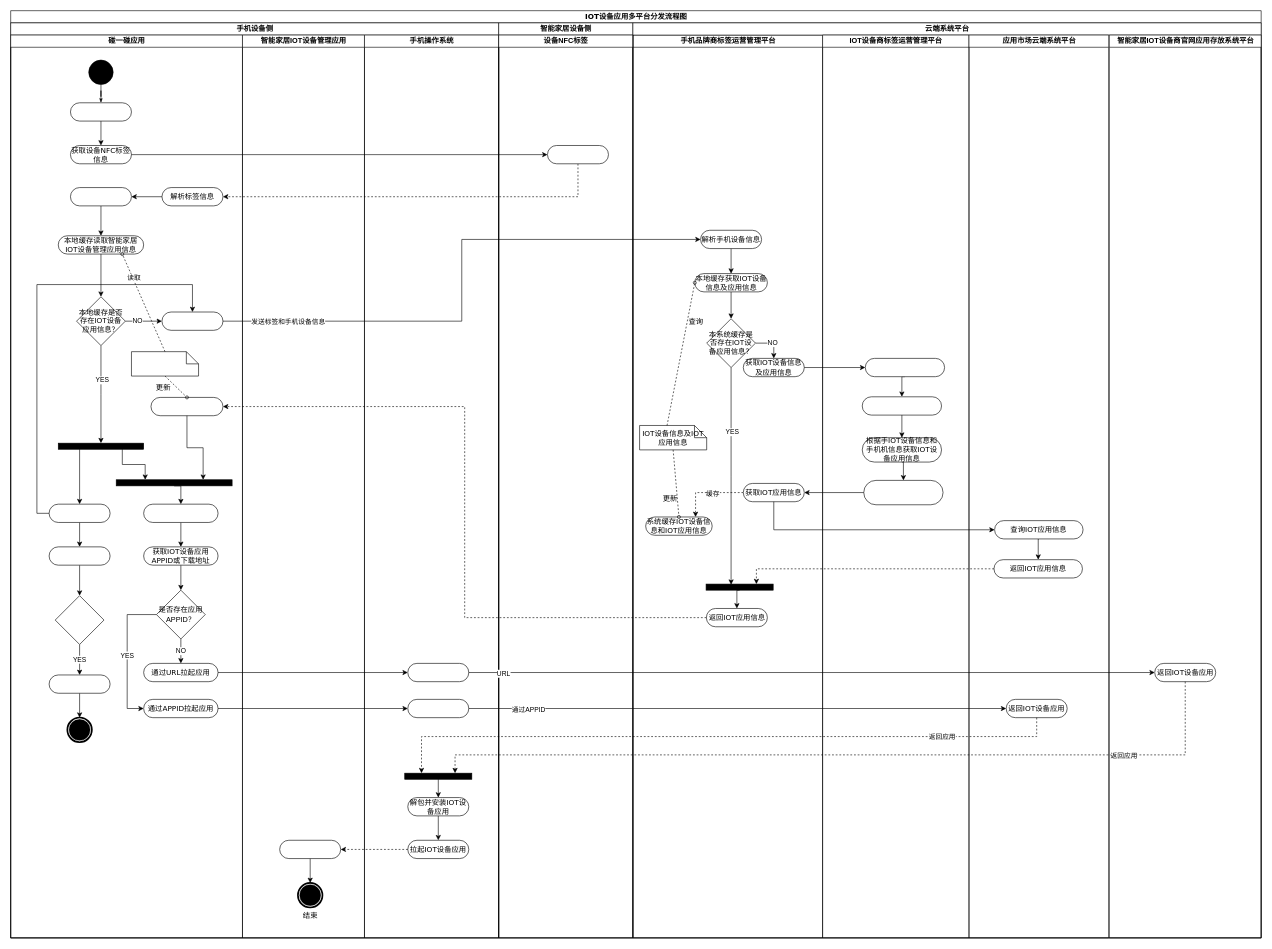
Some shapes in this 1272 by 949 pixel diagram are drawn without their labels. Here are the shapes that lost their labels. From the top down, the centre of each, then its label:
At point 100,71: "开始".
At point 100,111: "手机靠近智能家居设备NFC标签".
At point 577,154: "返回设备标签信息".
At point 100,196: "获取手机设备信息".
At point 192,320: "获IOT设备应用信息".
At point 165,363: "标签-应用信息映射缓存".
At point 905,367: "解析标签及手机信息".
At point 186,406: "根据标签信息更新缓存IOT设备应用信息".
At point 902,405: "根据标签信息获取IOT设备信息".
At point 903,492: "返回IOT设备信息和IOT设备应用信息".
At point 79,513: "获取IOT设备应用最新信息".
At point 180,513: "解析IOT设备应用信息".
At point 79,555: "获取IOT设备应用版本号并进行比较".
At point 79,619: "是否需要更新IOT设备应用?".
At point 79,683: "更新标签-应用映射缓存信息".
At point 438,672: "通过URL下载应用".
At point 438,708: "通过APPID下载应用".
At point 310,849: "智能家居设备应用启动".
